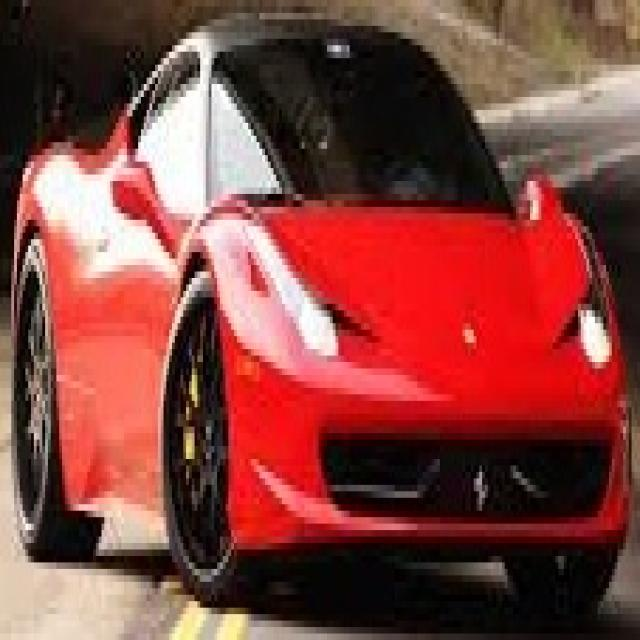red: (19, 28, 621, 566)
